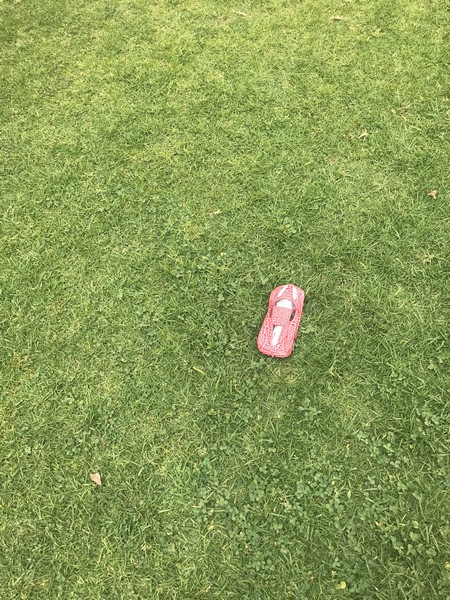RC: (254, 282, 307, 361)
